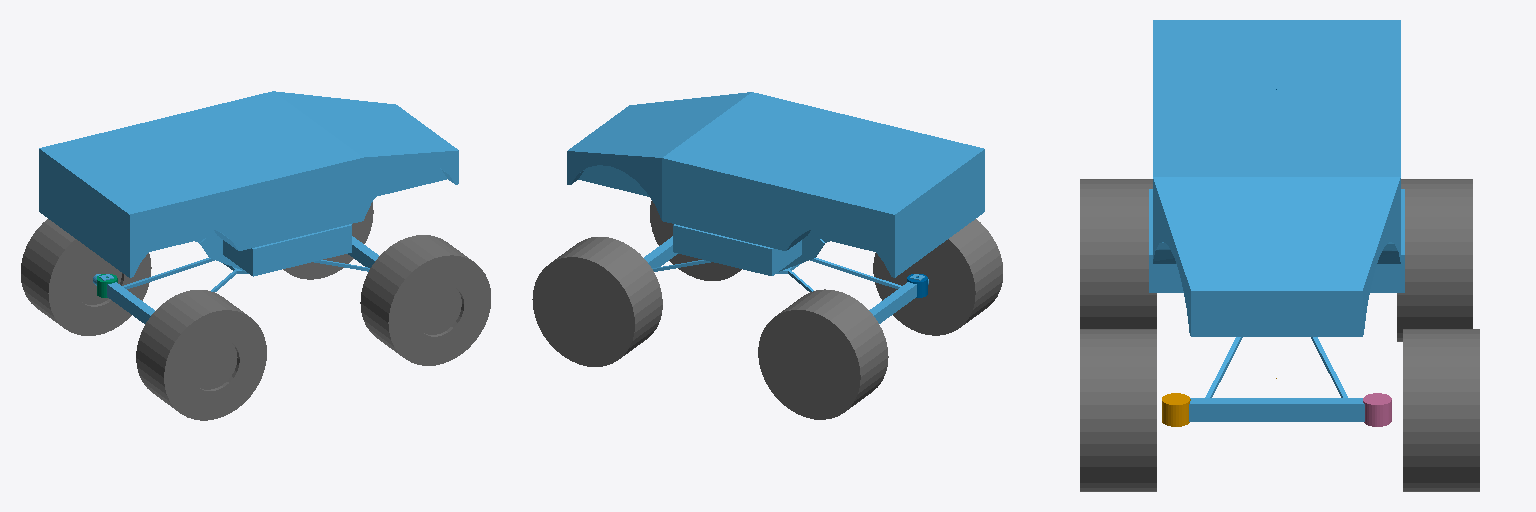
URDF robot description (summit):
<?xml version="1.0"?>
<robot name="summit" 

       xmlns:xi="http://www.w3.org/2001/XInclude"
       xmlns:gazebo="http://playerstage.sourceforge.net/gazebo/xmlschema/#gz"
       xmlns:model="http://playerstage.sourceforge.net/gazebo/xmlschema/#model"
       xmlns:sensor="http://playerstage.sourceforge.net/gazebo/xmlschema/#sensor"
       xmlns:body="http://playerstage.sourceforge.net/gazebo/xmlschema/#body"
       xmlns:geom="http://playerstage.sourceforge.net/gazebo/xmlschema/#geom"
       xmlns:joint="http://playerstage.sourceforge.net/gazebo/xmlschema/#joint"
       xmlns:interface="http://playerstage.sourceforge.net/gazebo/xmlschema/#interface"
       xmlns:rendering="http://playerstage.sourceforge.net/gazebo/xmlschema/#rendering"
       xmlns:renderable="http://playerstage.sourceforge.net/gazebo/xmlschema/#renderable"
       xmlns:controller="http://playerstage.sourceforge.net/gazebo/xmlschema/#controller"
       xmlns:physics="http://playerstage.sourceforge.net/gazebo/xmlschema/#physics">


  <!-- BASE FOOTPRINT -->

  <!-- base_footprint is a fictitious link(frame) that is on the ground right below base_link origin,
             navigation stack depends on this frame -->
  <link name="base_footprint">
      <inertial>
          <mass value="0.0001" />
          <origin xyz="0 0 0" />
      <inertia ixx="0.0001" ixy="0.0" ixz="0.0"
                         iyy="0.0001" iyz="0.0" 
                         izz="0.0001" />
      </inertial>

      <visual>
          <origin xyz="0 0 0" rpy="0 0 0" />
          <geometry>
             <box size="0.001 0.001 0.001" />
          </geometry>
      </visual>

      <collision>
          <origin xyz="0 0 0.0" rpy="0 0 0" />
          <geometry>
            <box size="0.001 0.001 0.001" />
         </geometry>
     </collision>
  </link>

  <gazebo reference="base_footprint">
    <material>Gazebo/Green</material>
    <turnGravityOff>false</turnGravityOff>
  </gazebo>

  <joint name="base_footprint_joint" type="fixed">
     <!--NB: While you would think this would make it go up, it is oddly reversed.
      This moves the joint to 0,0,0 where we want it for rviz, etc. -->
     <!-- origin xyz="0 0 0.130" rpy="0 0 0" / -->
     <origin xyz="0 0 0.050" rpy="0 0 0"/>
     <parent link="base_footprint"/>
     <child link="base_link" />
  </joint>


  <!-- BASE_LINK (RED) -->

  <link name="base_link">
    <inertial>
      <mass value="6.5" />
      <origin xyz="0 0 0" />
      <inertia  ixx="0.21805" ixy="0.0"  ixz="-0.001"  iyy="0.33677"  iyz="0.0"  izz="0.20511" />
    </inertial>
    <visual>
       <origin xyz="0 0 0" rpy="0 0 0" />
       <geometry>
	 <mesh filename="package://summit_description/meshes/summit_chassis.stl"/>
       </geometry>
    </visual>
    <collision>
       <origin xyz="0 0 0.06" rpy="0 0 0 " />
       <geometry>
         <!--mesh filename="package://guardian_description/meshes/chassis.stl"/-->
	 <box size = "0.56 0.4 0.2"/>
       </geometry>
    </collision>     
  </link>
  <gazebo reference="base_link">
    <material>Gazebo/Red</material>
    <turnGravityOff>false</turnGravityOff>
  </gazebo>

<!-- DIRECTION BACK LEFT         -->
<!-- =========================== -->

  <link name="back_left_wheel_dir">
    <inertial>
      <mass value="0.1" />
      <!-- center of mass (com) is defined w.r.t. link local coord system -->
      <origin xyz="0 0 0" />
      <inertia  ixx="0.01" ixy="0.0"  ixz="0.0"  iyy="0.01"  iyz="0.0"  izz="0.01" />
    </inertial>
    <visual>
       <!-- visual origin is defined w.r.t. link local coordinate system -->
	<origin xyz="0 0 0" rpy="0 0 0" />       
	<!--origin xyz="0 0 0" rpy="0 0 1.5708" /-->
       <geometry>
         <cylinder radius="0.015" length="0.025"/>
         <!-- mesh filename="package://summit_description/meshes/wheel_axis.stl"/-->
       </geometry>
    </visual>
    <collision>
       <!-- collision origin is defined w.r.t. link local coord. system -->
       <origin xyz="0 0 0" rpy="0 0 0 " />
       <geometry>
         <cylinder radius="0.015" length="0.025"/>
       </geometry>
    </collision>
  </link>
  <gazebo reference="back_left_wheel_dir">
    <material>Gazebo/Green</material>
    <turnGravityOff>false</turnGravityOff>
  </gazebo>

  <joint name="joint_back_left_wheel_dir" type="revolute">
    <parent link="base_link"/>
    <child link="back_left_wheel_dir"/>
    <origin xyz="-0.185 0.105 0" rpy="0 0 0" />
    <axis xyz="0 0 1" rpy="0 0 0" />
    <limit effort="3.0" velocity="3.0" lower="-0.7854" upper="0.7854"/>
  </joint>

  <transmission name="joint_blw_trans_dir" type="pr2_mechanism_model/SimpleTransmission">
     <actuator name="joint_blw_motor_dir" />
     <joint name="joint_back_left_wheel_dir" />
     <mechanicalReduction>1</mechanicalReduction>
     <motorTorqueConstant>1</motorTorqueConstant>
  </transmission>


  <!-- BACK LEFT WHEEL -->
  <link name="back_left_wheel">
    <inertial>
      <mass value="1.023" />
      <origin xyz="0 0 0" /> 
      <inertia  ixx="0.0027" ixy="0.0"  ixz="0.0"  iyy="0.0039"  iyz="0.0"  izz="0.0027" />
    </inertial>
    <visual>
       <origin xyz="0 0 0" rpy="0 0 0 " /> 
       <geometry>
	 <!--mesh filename="package://guardian_description/meshes/wheel_link.dae" scale="1.8 1.8 1.8"/ -->
         <!--cylinder radius="0.085" length="0.08"/-->
	 <mesh filename="package://summit_description/meshes/wheel.stl"/>
       </geometry>
        <material name="grey">
             <color rgba="0.5 0.5 0.5 1"/>
        </material>
    </visual>
    <collision>
       <origin xyz="0 0 0" rpy="0 0 0 " />
       <geometry>
	 <!--mesh filename="package://guardian_description/meshes/wheel_link.dae" scale="1.8 1.8 1.8"/ -->
         <!--cylinder radius="0.085" length="0.08"/-->
         <mesh filename="package://summit_description/meshes/wheel.stl"/>
       </geometry>
    </collision>
  </link>
  <gazebo reference="back_left_wheel">
    <mu1 value="50.0"/> <!-- 2.0 -->
    <mu2 value="0.5"/> <!-- 0.5 -->
    <fdir1 value="1 0 0"/>
    <material>Gazebo/Grey</material>
    <turnGravityOff>false</turnGravityOff>
  </gazebo>

  <joint name="joint_back_left_wheel" type="continuous">
    <parent link="back_left_wheel_dir"/>
    <child link="back_left_wheel"/>
    <origin xyz="0.0 0.060 0" rpy="0 0 0" /> 
    <axis xyz="0 1 0" rpy="0 0 0" />
    <limit effort="100" velocity="100"/>
    <joint_properties damping="0.0" friction="0.0"/>
  </joint>

  <transmission name="joint_blw_trans" type="pr2_mechanism_model/SimpleTransmission">
     <actuator name="joint_blw_motor" />
     <joint name="joint_back_left_wheel" />
     <mechanicalReduction>1</mechanicalReduction>
     <motorTorqueConstant>1</motorTorqueConstant>
  </transmission>






<!-- DIRECTION BACK RIGHT        -->
<!-- =========================== -->
  <link name="back_right_wheel_dir">
    <inertial>
      <mass value="0.1" />
      <!-- center of mass (com) is defined w.r.t. link local coord system -->
      <origin xyz="0 0 0" />
      <inertia  ixx="0.01" ixy="0.0"  ixz="0.0"  iyy="0.01"  iyz="0.0"  izz="0.01" />
    </inertial>
    <visual>
       <!-- visual origin is defined w.r.t. link local coordinate system -->
       <origin xyz="0 0 0" rpy="0 0 0" />
       <geometry>
         <cylinder radius="0.015" length="0.025"/>
       </geometry>
    </visual>
    <collision>
       <!-- collision origin is defined w.r.t. link local coord. system -->
       <origin xyz="0 0 0" rpy="0 0 0 " />
       <geometry>
         <cylinder radius="0.015" length="0.025"/>
         <!--mesh filename="package://summit_description/meshes/wheel.stl"/-->
       </geometry>
    </collision>
  </link>
  <gazebo reference="back_right_wheel_dir">
    <material>Gazebo/Green</material>
    <turnGravityOff>false</turnGravityOff>
  </gazebo>

  <joint name="joint_back_right_wheel_dir" type="revolute">
    <parent link="base_link"/>
    <child link="back_right_wheel_dir"/>
    <origin xyz="-0.185 -0.105 0" rpy="0 0 0" />
    <axis xyz="0 0 1" rpy="0 0 0" />
    <limit effort="3.0" velocity="3.0" lower="-0.7854" upper="0.7854"/>
  </joint>

  <transmission name="joint_brw_trans_dir" type="pr2_mechanism_model/SimpleTransmission">
     <actuator name="joint_brw_motor_dir" />
     <joint name="joint_back_right_wheel_dir" />
     <mechanicalReduction>1</mechanicalReduction>
     <motorTorqueConstant>1</motorTorqueConstant>
  </transmission>

  <!-- BACK RIGHT WHEEL -->
  <link name="back_right_wheel">
    <inertial>
      <mass value="1.023" />
      <origin xyz="0 0 0" />
      <inertia  ixx="0.0027" ixy="0.0"  ixz="0.0"  iyy="0.0039"  iyz="0.0"  izz="0.0027" />
    </inertial>
    <visual>
       <origin xyz="0 0 0" rpy="0 0 0" /> 
       <geometry>
	 <!--mesh filename="package://guardian_description/meshes/wheel_link.dae" scale="1.8 1.8 1.8"/ -->
         <mesh filename="package://summit_description/meshes/wheel.stl"/>
       </geometry>
        <material name="grey">
                <color rgba="0.5 0.5 0.5 1"/>
        </material>
    </visual>
    <collision>
       <origin xyz="0 0 0" rpy="0 0 0" /> 
       <geometry>
	 <!-- mesh filename="package://guardian_description/meshes/wheel_link.dae" scale="1.8 1.8 1.8"/ -->
         <mesh filename="package://summit_description/meshes/wheel.stl"/>
       </geometry>
    </collision>
  </link>
  <gazebo reference="back_right_wheel">
    <mu1 value="50.0"/> <!-- 2.0 -->
    <mu2 value="0.5"/> <!-- 0.5 -->
    <fdir1 value="1 0 0"/>
    <material>Gazebo/Grey</material>
    <turnGravityOff>false</turnGravityOff>
  </gazebo>

  <joint name="joint_back_right_wheel" type="continuous">
    <parent link="back_right_wheel_dir"/>
    <child link="back_right_wheel"/>
    <origin xyz="0.0 -0.060 0" rpy="0 0 0" />
    <axis xyz="0 1 0" />
    <limit effort="100" velocity="100"/>
    <joint_properties damping="0.0" friction="0.0"/>
  </joint>

  <transmission name="joint_brw_trans" type="pr2_mechanism_model/SimpleTransmission">
     <actuator name="joint_brw_motor" />
     <joint name="joint_back_right_wheel" />
     <mechanicalReduction>1</mechanicalReduction>
     <motorTorqueConstant>1</motorTorqueConstant>
  </transmission>

<!-- DIRECTION FORWARD LEFT      -->
<!-- =========================== -->

  <link name="front_left_wheel_dir">
    <inertial>
      <mass value="0.1" />
      <!-- center of mass (com) is defined w.r.t. link local coord system -->
      <origin xyz="0 0 0" />
      <inertia  ixx="0.01" ixy="0.0"  ixz="0.0"  iyy="0.01"  iyz="0.0"  izz="0.01" />
    </inertial>
    <visual>
       <!-- visual origin is defined w.r.t. link local coordinate system -->
       <origin xyz="0 0 0" rpy="0 0 0" />
       <geometry>
         <cylinder radius="0.015" length="0.025"/>
       </geometry>
    </visual>
    <collision>
       <!-- collision origin is defined w.r.t. link local coord. system -->
       <origin xyz="0 0 0" rpy="0 0 0 " />
       <geometry>
         <cylinder radius="0.015" length="0.025"/>
       </geometry>
    </collision>
  </link>
  <gazebo reference="front_left_wheel_dir">
    <material>Gazebo/Green</material>
    <turnGravityOff>false</turnGravityOff>
  </gazebo>

  <joint name="joint_front_left_wheel_dir" type="revolute">
    <parent link="base_link"/>
    <child link="front_left_wheel_dir"/>
    <origin xyz="0.185 0.105 0" rpy="0 0 0" />
    <axis xyz="0 0 1" rpy="0 0 0" />
    <limit effort="3.0" velocity="3.0" lower="-0.7854" upper="0.7854"/>
  </joint>

  <transmission name="joint_flw_trans_dir" type="pr2_mechanism_model/SimpleTransmission">
     <actuator name="joint_flw_motor_dir" />
     <joint name="joint_front_left_wheel_dir" />
     <mechanicalReduction>1</mechanicalReduction>
     <motorTorqueConstant>1</motorTorqueConstant>
  </transmission>

  <!-- FRONT LEFT WHEEL (GREY) -->
  <link name="front_left_wheel">
    <inertial>
      <mass value="1.023" />
      <origin xyz="0 0 0" />
      <inertia  ixx="0.0027" ixy="0.0"  ixz="0.0"  iyy="0.0039"  iyz="0.0"  izz="0.0027" />
    </inertial>
    <visual>
       <origin xyz="0 0 0" rpy="0 0 0" /> 
       <geometry>
	 <!-- mesh filename="package://guardian_description/meshes/wheel_link.dae" scale="1.8 1.8 1.8"/ -->
         <mesh filename="package://summit_description/meshes/wheel.stl"/>
       </geometry>
	<material name="gray">
		<color rgba="0.5 0.5 0.5 1"/>
      	</material>
    </visual>
    <collision>
       <origin xyz="0 0 0" rpy="0 0 0" /> 
       <geometry>
	 <!-- mesh filename="package://guardian_description/meshes/wheel_link.dae" scale="1.8 1.8 1.8"/ -->
         <mesh filename="package://summit_description/meshes/wheel.stl"/>
       </geometry>
    </collision>
  </link>
  <gazebo reference="front_left_wheel">
    <mu1 value="50.0"/> <!-- 2.0 -->
    <mu2 value="0.5"/> <!-- 0.5 -->
    <fdir1 value="1 0 0"/>
    <material>Gazebo/Grey</material>
    <turnGravityOff>false</turnGravityOff>
  </gazebo>

  <joint name="joint_front_left_wheel" type="continuous">
    <parent link="front_left_wheel_dir"/>
    <child link="front_left_wheel"/>
    <origin xyz="0.0 0.0666666 0.0" rpy="0 0 0" />
    <axis xyz="0 1 0" />
    <limit effort="100" velocity="100"/>
    <joint_properties damping="0.0" friction="0.0"/>
  </joint>

  <transmission name="joint_flw_trans" type="pr2_mechanism_model/SimpleTransmission">
     <actuator name="joint_flw_motor" />
     <joint name="joint_front_left_wheel" />
     <mechanicalReduction>1</mechanicalReduction>
     <motorTorqueConstant>1</motorTorqueConstant>
  </transmission>


<!-- DIRECTION FORWARD RIGHT     -->
<!-- =========================== -->

  <link name="front_right_wheel_dir">
    <inertial>
      <mass value="0.1" />
      <!-- center of mass (com) is defined w.r.t. link local coord system -->
      <origin xyz="0 0 0" />
      <inertia  ixx="0.01" ixy="0.0"  ixz="0.0"  iyy="0.01"  iyz="0.0"  izz="0.01" />
    </inertial>
    <visual>
       <!-- visual origin is defined w.r.t. link local coordinate system -->
       <origin xyz="0 0 0" rpy="0 0 0" />
       <geometry>
         <cylinder radius="0.015" length="0.025"/>
       </geometry>
    </visual>
    <collision>
       <!-- collision origin is defined w.r.t. link local coord. system -->
       <origin xyz="0 0 0" rpy="0 0 0 " />
       <geometry>
         <cylinder radius="0.015" length="0.025"/>
       </geometry>
    </collision>
  </link>
  <gazebo reference="front_right_wheel_dir">
    <material>Gazebo/Green</material>
    <turnGravityOff>false</turnGravityOff>
  </gazebo>

  <joint name="joint_front_right_wheel_dir" type="revolute">
    <parent link="base_link"/>
    <child link="front_right_wheel_dir"/>
    <origin xyz="0.185 -0.105 0" rpy="0 0 0" />
    <axis xyz="0 0 1" rpy="0 0 0" />
    <limit effort="3.0" velocity="3.0" lower="-0.7854" upper="0.7854"/>
  </joint>

  <transmission name="joint_frw_trans_dir" type="pr2_mechanism_model/SimpleTransmission">
     <actuator name="joint_frw_motor_dir" />
     <joint name="joint_front_right_wheel_dir" />
     <mechanicalReduction>1</mechanicalReduction>
     <motorTorqueConstant>1</motorTorqueConstant>
  </transmission>


  <!-- FRONT RIGHT WHEEL (GREY) -->

  <link name="front_right_wheel">
    <inertial>
      <mass value="1.023" />
      <origin xyz="0 0 0" />
      <inertia  ixx="0.0027" ixy="0.0"  ixz="0.0"  iyy="0.0039"  iyz="0.0"  izz="0.0027" />
    </inertial>
    <visual>
       <origin xyz="0 0 0" rpy="0 0 0" /> 
       <geometry>
	 <!-- mesh filename="package://guardian_description/meshes/wheel_link.dae" scale="1.8 1.8 1.8"/ -->
         <mesh filename="package://summit_description/meshes/wheel.stl"/>
       </geometry>
	<material name="grey">
		<color rgba="0.5 0.5 0.5 1"/>
      	</material>
    </visual>
    <collision>
       <origin xyz="0 0 0" rpy="0 0 0" /> 
       <geometry>
	 <!-- mesh filename="package://guardian_description/meshes/wheel_link.dae" scale="1.8 1.8 1.8"/ -->
         <mesh filename="package://summit_description/meshes/wheel.stl"/>
       </geometry>
    </collision>
  </link>
  <gazebo reference="front_right_wheel">
    <mu1 value="50.0"/> <!-- 2.0 -->
    <mu2 value="0.5"/> <!-- 0.5 -->
    <fdir1 value="1 0 0"/>
    <material>Gazebo/Grey</material>
    <turnGravityOff>false</turnGravityOff>
  </gazebo>

  <joint name="joint_front_right_wheel" type="continuous">
    <parent link="front_right_wheel_dir"/>
    <child link="front_right_wheel"/>
    <origin xyz="0.0 -0.06 0" rpy="0 0 0" />
    <axis xyz="0 1 0" />
    <limit effort="100" velocity="100"/>
    <joint_properties damping="0.0" friction="0.0"/>
  </joint>

  <transmission name="joint_frw_trans" type="pr2_mechanism_model/SimpleTransmission">
     <actuator name="joint_frw_motor" />
     <joint name="joint_front_right_wheel" />
     <mechanicalReduction>1</mechanicalReduction>
     <motorTorqueConstant>1</motorTorqueConstant>
  </transmission>


  <!-- HOKUYO SENSOR -->

  <joint name="hokuyo_laser_joint" type="fixed">
     <axis xyz="0 1 0" />
     <origin xyz="0.226 0 0.226"/>  
     <!--origin xyz="0.226 0 0.126"/-->
     <parent link="base_link"/>
     <child link="hokuyo_laser_link"/>
  </joint>
 
 <link name="hokuyo_laser_link" type="laser">
     <inertial>
       <mass value="0.001" />
       <origin xyz="0 0 0" rpy="0 0 0" />
       <inertia ixx="0.0001" ixy="0" ixz="0" iyy="0.000001" iyz="0" izz="0.0001" />
    </inertial>
  </link>

  <!-- This adds a visual box to allow us to see the Hokuyo in rviz/gazebo -->
  <joint name="hokuyo_laser_box_joint" type="fixed">
    <origin xyz="0 0 0" rpy="0 0 0" />
    <parent link="hokuyo_laser_link" />
    <child link="hokuyo_laser_box_link"/>
  </joint>
  <link name="hokuyo_laser_box_link">
    <inertial>
      <mass value="0.01" />
      <origin xyz="0 0 0" />
      <inertia ixx="0.001"  ixy="0.0"  ixz="0.0"
               iyy="0.001"  iyz="0.0"
               izz="0.001" />
    </inertial>
    <visual>
      <origin xyz="0 0 0" rpy="0 0 0"/>
      <geometry>
        <!--box size="0.05 0.05 0.1" /-->
	<mesh filename= "package://pr2_description/meshes/tilting_laser_v0/hok_tilt.stl" scale="0.5 0.5 0.5"/>
      </geometry>
    </visual>
    <collision>
      <origin xyz="0 0 0" rpy="0 0 0"/>
      <geometry>
        <box size="0.05 0.05 0.1" />
      </geometry>
    </collision>
  </link>

  <gazebo reference="hokuyo_laser_box_link">
    <material>Gazebo/Magenta</material>
    <turnGravityOff>false</turnGravityOff>
  </gazebo>

  <!-- IMU SENSOR -->

  <joint name="imu_joint" type="fixed">
      <axis xyz="1 0 0"/> <!-- 0 1 0 -->
      <origin xyz="0 0 0.2825"/>
      <parent link="base_link"/>
      <child link="imu_link"/>
  </joint>


  <link name="imu_link">
      <inertial>
        <mass value="0.001"/>
        <origin rpy="0 0 0" xyz="0 0 0"/>
        <inertia ixx="0.0001" ixy="0" ixz="0" iyy="0.000001" iyz="0" izz="0.0001"/>
      </inertial>
      <visual>
        <origin rpy="0 0 0" xyz="0 0 0"/>
        <geometry>
          <box size="0.001 0.001 0.001"/>
        </geometry>
      </visual>
      <collision>
        <origin rpy="0 0 0" xyz="0 0 0"/>
        <geometry>
          <box size=".001 .001 .001"/>
        </geometry>
      </collision>
  </link>

  <!-- Gazebo controllers -->
  <gazebo>
     <controller:gazebo_ros_time name="gazebo_ros_time" plugin="libgazebo_ros_time.so">
       <alwaysOn>true</alwaysOn>
       <updateRate>1000.0</updateRate>
       <interface:audio name="dummy_gazebo_ros_time_iface_should_not_be_here"/>
     </controller:gazebo_ros_time>

      <!-- PR2_ACTARRAY -->
     <controller:gazebo_ros_controller_manager name="gazebo_ros_controller_manager" plugin="libgazebo_ros_controller_manager.so">
       <alwaysOn>true</alwaysOn>
       <updateRate>1000.0</updateRate>
       <interface:audio name="gazebo_ros_controller_manager_dummy_iface" />
     </controller:gazebo_ros_controller_manager>
  </gazebo>

  <!-- Other controllers (HOKUYO SENSOR) -->

  <gazebo reference = "hokuyo_laser_link">
    <sensor:ray name="hokuyo_laser">
       <rayCount>640</rayCount>
       <rangeCount>640</rangeCount>
       <laserCount>1</laserCount>

       <origin>0.0 0.0 0.0</origin>
       <displayRays>fan</displayRays>

       <minAngle>-120.0</minAngle>
       <maxAngle>120.0</maxAngle>
     
       <minRange>0.05</minRange>
       <maxRange>4.0</maxRange>
       <resRange>0.001</resRange>
       <updateRate>10.0</updateRate>
       <controller:gazebo_ros_laser name="gazebo_ros_hokuyo_laser_controller" plugin="libgazebo_ros_laser.so">
         <gaussianNoise>0.005</gaussianNoise>
         <alwaysOn>true</alwaysOn>
         <updateRate>10.0</updateRate>
         <!--topicName>hokuyo_laser_topic</topicName-->
         <topicName>base_scan</topicName>
         <frameName>hokuyo_laser_link</frameName>
         <interface:laser name="gazebo_ros_hokuyo_laser_iface" />
       </controller:gazebo_ros_laser>
    </sensor:ray>
   </gazebo>

   <!-- Other controllers (IMU SENSOR) -->

  <!--gazebo reference = "imu_link">
      <material>Gazebo/Green</material>
      <turnGravityOff>false</turnGravityOff>
      <controller:gazebo_ros_imu name="imu_controller" plugin="libgazebo_ros_imu.so">
         <alwaysOn>true</alwaysOn>
         <updateRate>50.0</updateRate>
         <bodyName>imu_link</bodyName>
         <topicName>imu_data</topicName>
         <xyzOffsets>0 0 0</xyzOffsets--> <!-- option to initialize odometry for fake localization-->
         <!--rpyOffsets>0 0 0</rpyOffsets>
	 <gaussianNoise>0.01</gaussianNoise>
	 <frameName>map</frameName>
         <interface:position name="imu_base_position"/--> <!--imu_position_iface-->
      <!--/controller:gazebo_ros_imu>
  </gazebo-->

  <gazebo>
      <material>Gazebo/Green</material>
      <turnGravityOff>false</turnGravityOff>
    <controller:gazebo_ros_imu name="imu_controller" plugin="libgazebo_ros_imu.so">
      <alwaysOn>true</alwaysOn>
      <updateRate>50.0</updateRate> <!-- 100 -->
      <bodyName>imu_link</bodyName>
      <topicName>imu_data</topicName>
      <gaussianNoise>2.89e-08</gaussianNoise>
      <xyzOffsets>0 0 0</xyzOffsets>
      <rpyOffsets>0 0 0</rpyOffsets>
      <interface:position name="imu_position"/>
    </controller:gazebo_ros_imu>
  </gazebo>

</robot>

--- Render facts (derived) ---
3 views of the same robot in one strip: view 1: azimuth 30°, elevation 25°; view 2: azimuth 150°, elevation 25°; view 3: azimuth 270°, elevation 25° (orthographic).
Robot: summit — 13 links, 12 joints (4 revolute, 4 continuous, 4 fixed); root link base_footprint; default pose: all joints at 0.
Links seen in each view (by area): view 1: base_link, front_right_wheel, back_right_wheel, back_left_wheel, front_left_wheel; view 2: base_link, front_left_wheel, back_left_wheel, back_right_wheel, front_right_wheel; view 3: base_link, front_left_wheel, front_right_wheel, back_right_wheel, back_left_wheel, front_left_wheel_dir, front_right_wheel_dir.
Link boxes in pixels (bbox=[...]): base_link: bbox=[39, 91, 458, 323]; front_right_wheel: bbox=[360, 235, 490, 365]; back_right_wheel: bbox=[136, 290, 266, 420]; back_left_wheel: bbox=[21, 219, 151, 335]; front_left_wheel: bbox=[283, 202, 373, 279]; base_link: bbox=[567, 92, 984, 323]; front_left_wheel: bbox=[532, 237, 662, 366]; back_left_wheel: bbox=[758, 289, 888, 419]; back_right_wheel: bbox=[873, 219, 1002, 335]; front_right_wheel: bbox=[650, 201, 741, 280]; base_link: bbox=[1149, 20, 1404, 421]; front_left_wheel: bbox=[1403, 329, 1479, 491]; front_right_wheel: bbox=[1080, 329, 1156, 491]; back_right_wheel: bbox=[1080, 179, 1156, 328]; back_left_wheel: bbox=[1397, 179, 1472, 341]; front_left_wheel_dir: bbox=[1363, 393, 1391, 426]; front_right_wheel_dir: bbox=[1162, 393, 1190, 426].
Bounding box of the posed robot: 0.5665 × 0.4167 × 0.3677 m (x, y, z).
5 mesh visuals loaded from 3 distinct referenced files (2 binary STL); not drawn: 1 (reference not matched to a file when rendering).
